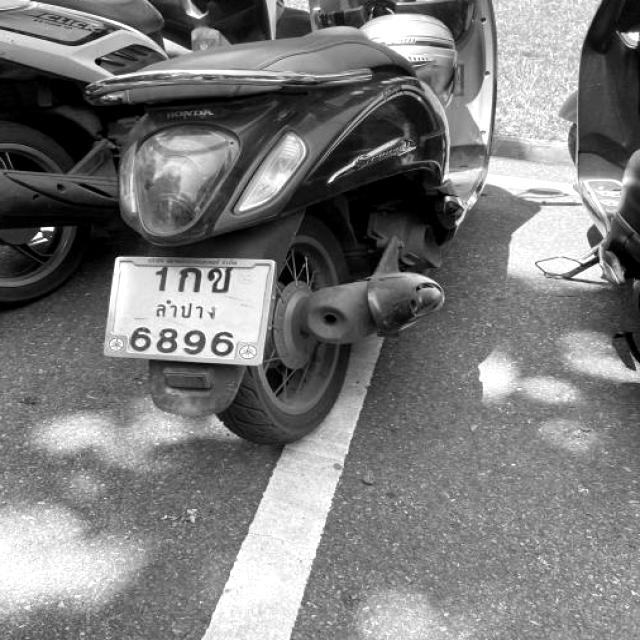letters: (181, 324, 209, 358), (210, 260, 236, 294), (178, 262, 200, 296), (148, 265, 172, 290), (126, 329, 156, 349), (215, 331, 236, 358), (157, 328, 176, 352)
license-plate: (97, 257, 275, 363)
province: (153, 298, 218, 325)
